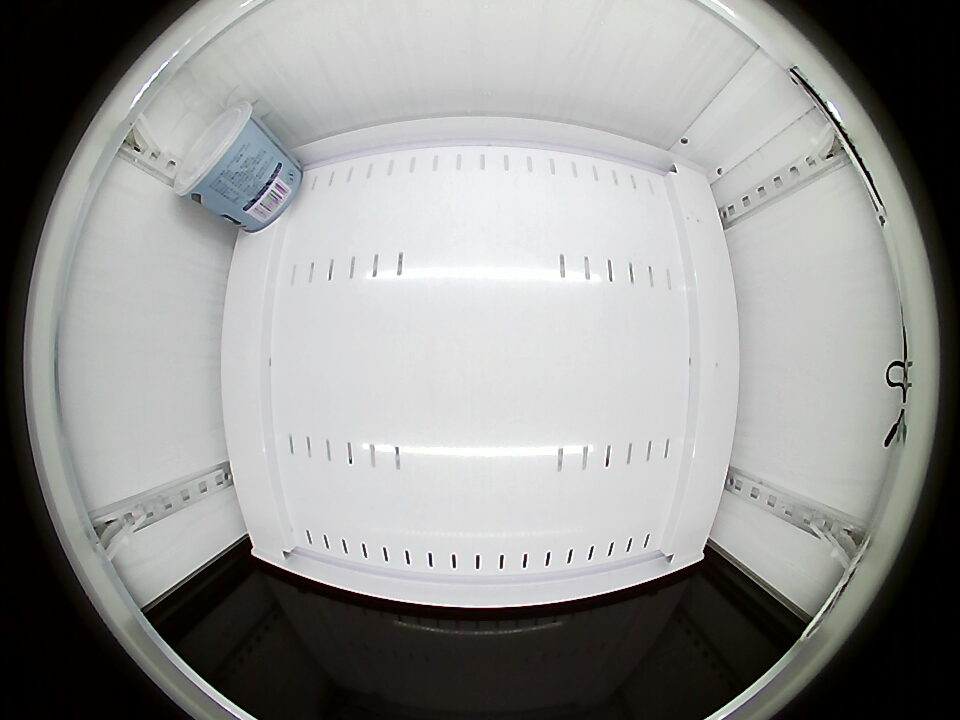haitai: (173, 101, 264, 205)
